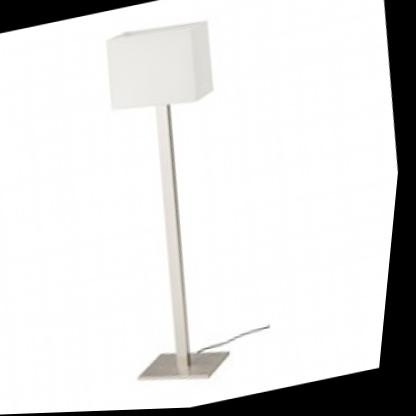Lamp: (60, 0, 287, 408)
